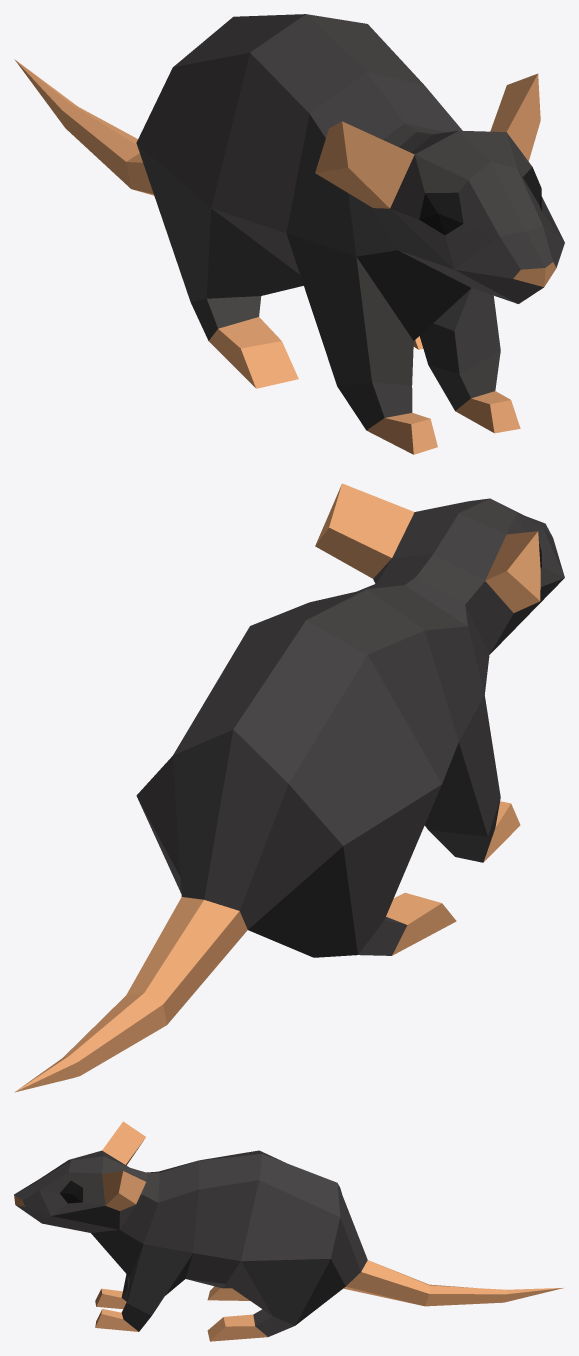
File: animals_rat.fbx
The picture shows the model from 3 angles, top to bottom: view 1: azimuth 30°, elevation 25°; view 2: azimuth 150°, elevation 25°; view 3: azimuth 270°, elevation 25°; orthographic projection. The views are drawn at different scales.
Visible parts, largest first — view 1: animals_rat; view 2: animals_rat; view 3: animals_rat.
Part boxes in pixels (x1,y1,x2,y2): animals_rat: [14, 14, 564, 454]; animals_rat: [14, 483, 564, 1092]; animals_rat: [14, 1121, 564, 1341].
Size of the model in its own units: 50.14 by 68.87 by 200.
